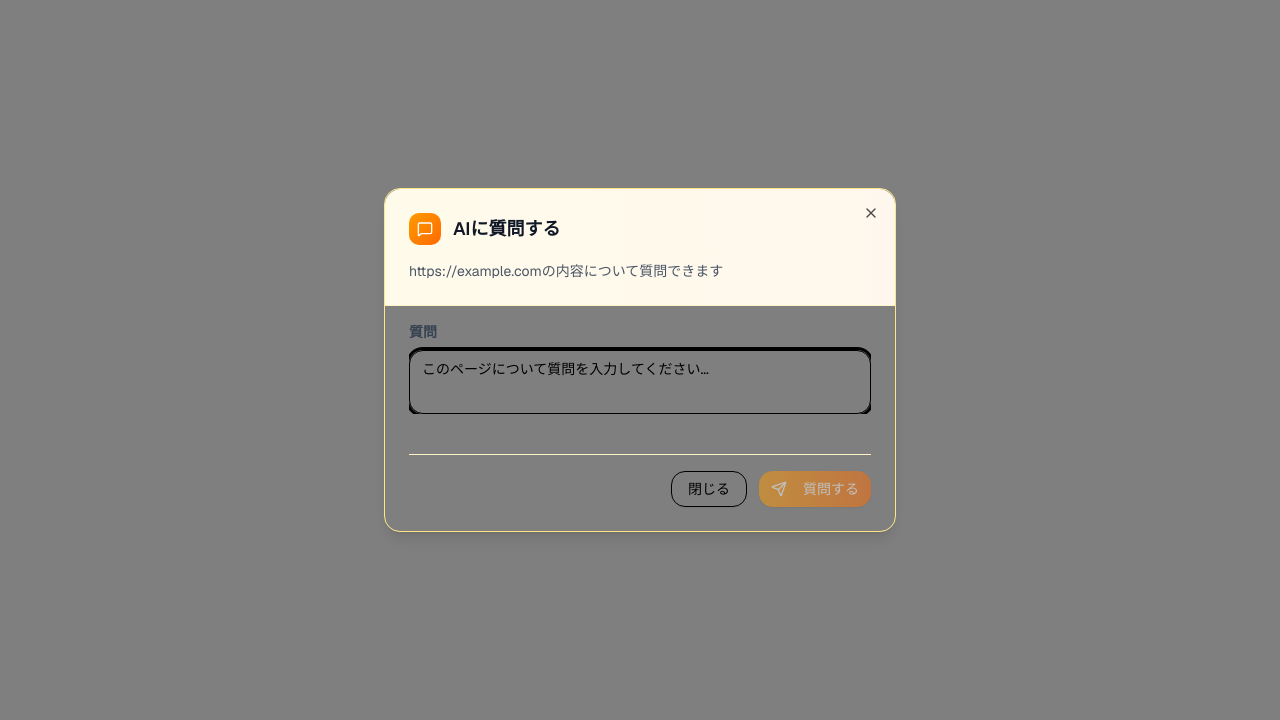
Scenario: AiQuestionModal › API通信 › ネットワークエラー時に一般的なエラーメッセージが表示されるべき
The width and height of the screenshot is (1280, 720).
Type "質問内容" into the text box with placeholder "このページについて質問を入力してください..." at x=640, y=382, box [409,350,871,414]
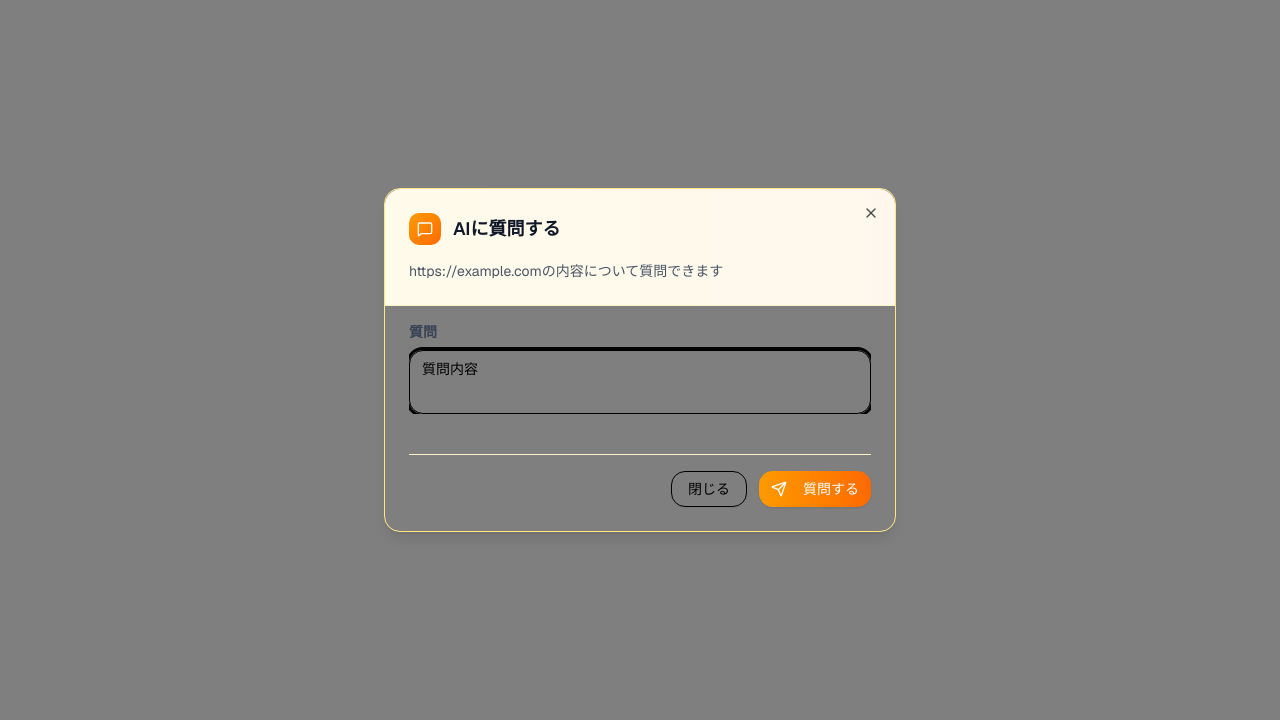
Click the button "質問する" at x=815, y=489, box [759,471,871,507]
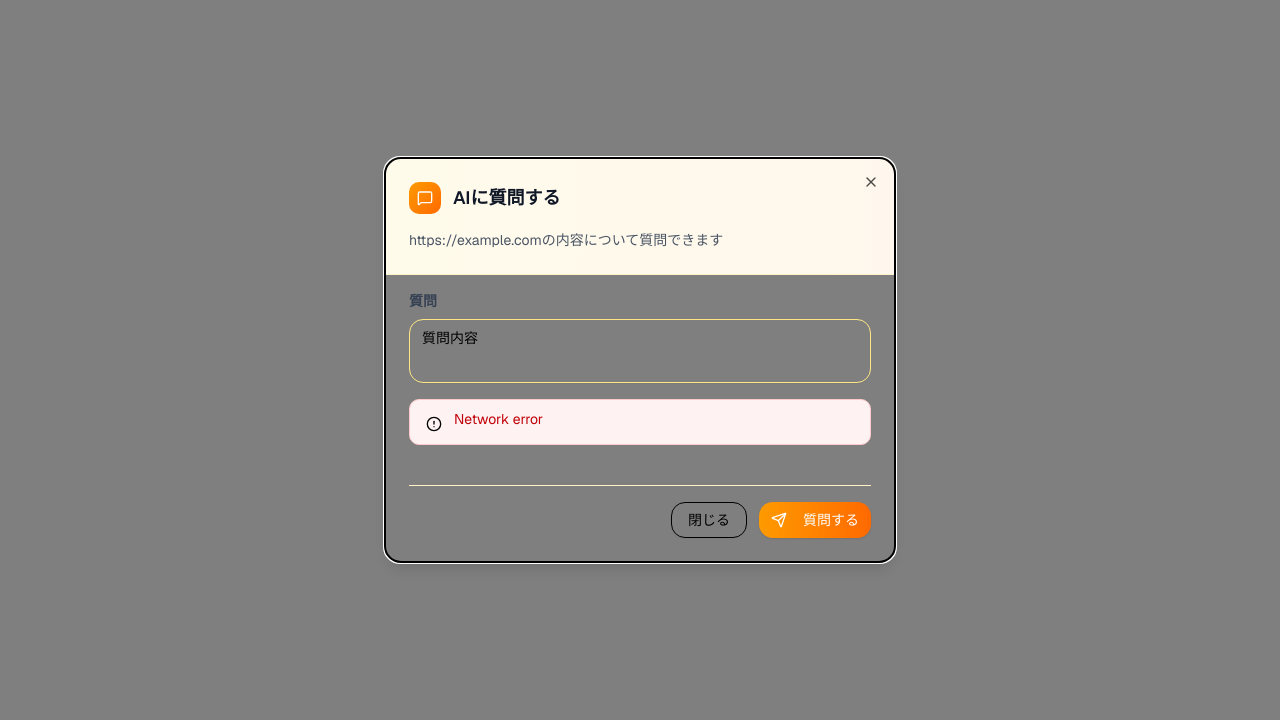
Expected: the text "Network error" is shown, [454,410,543,428]
